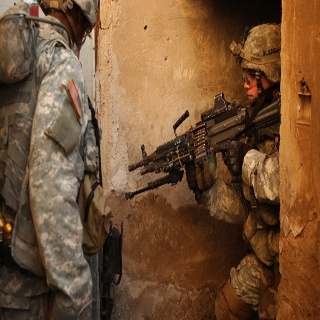rifle: (124, 89, 285, 199)
